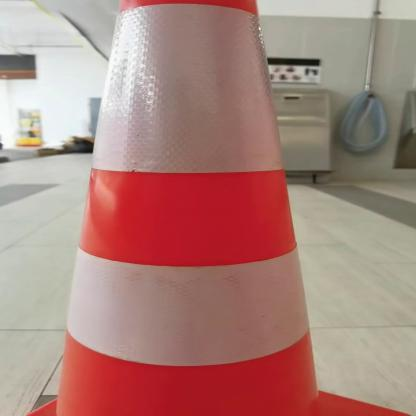cone: (7, 1, 403, 416)
